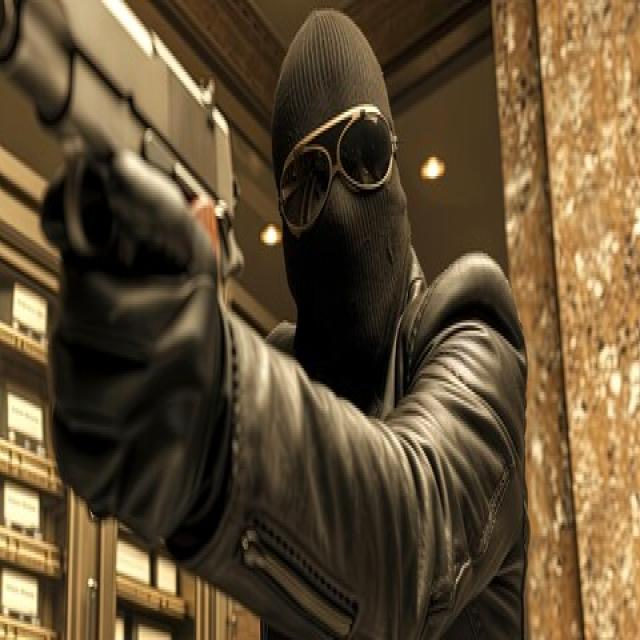masked-intruders: (274, 320, 550, 638)
